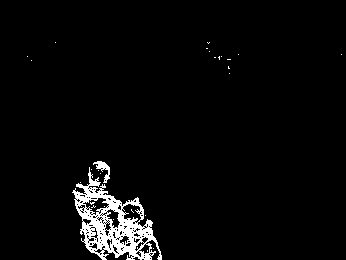person: (72, 157, 122, 260), (108, 197, 162, 259)
